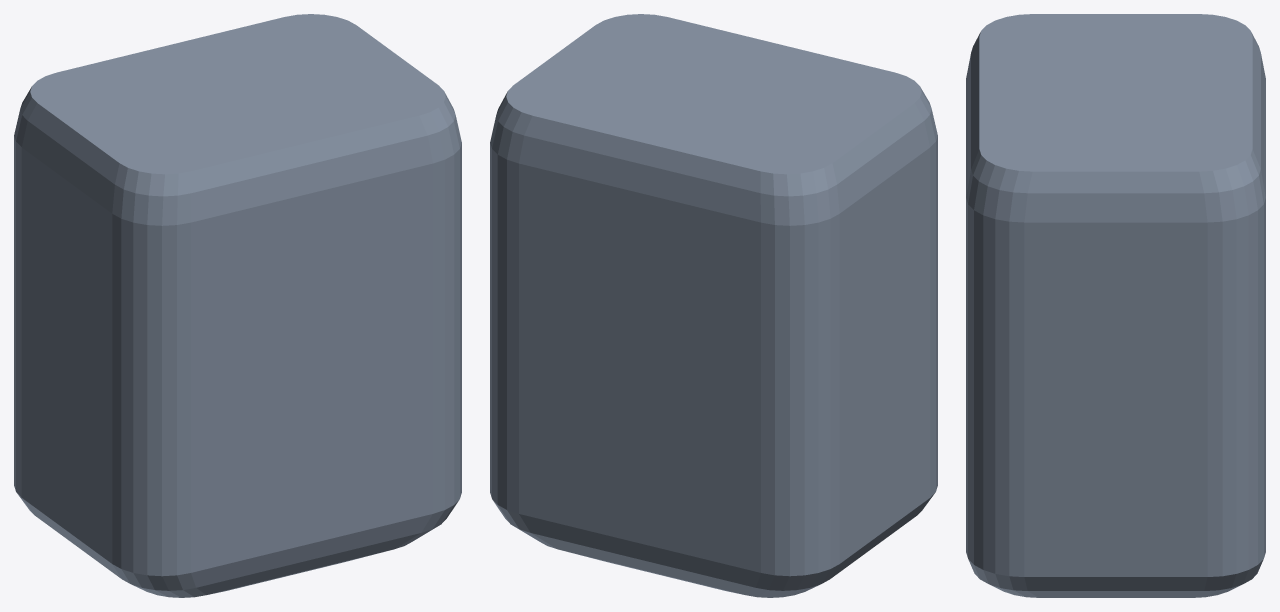
Rendered from SM_S5_Propulsion.obj.
3 views of the same model, side by side, from view 1: azimuth 30°, elevation 25°; view 2: azimuth 150°, elevation 25°; view 3: azimuth 270°, elevation 25° (orthographic).
Bounding box in the file's own units: 24000 × 30000 × 18000.
